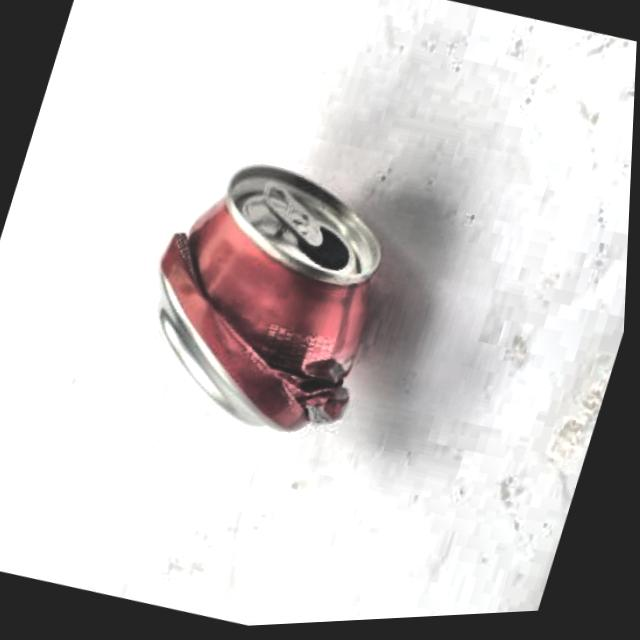Cans: (124, 145, 413, 451)
